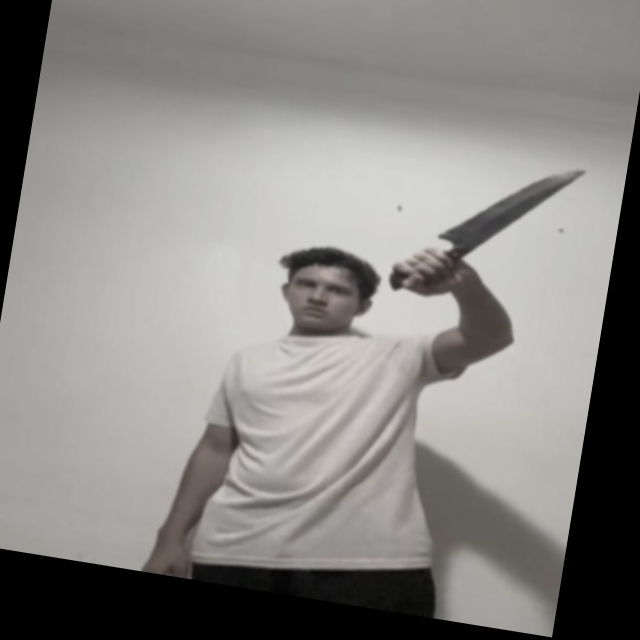Sharp-Object: (438, 148, 588, 264)
